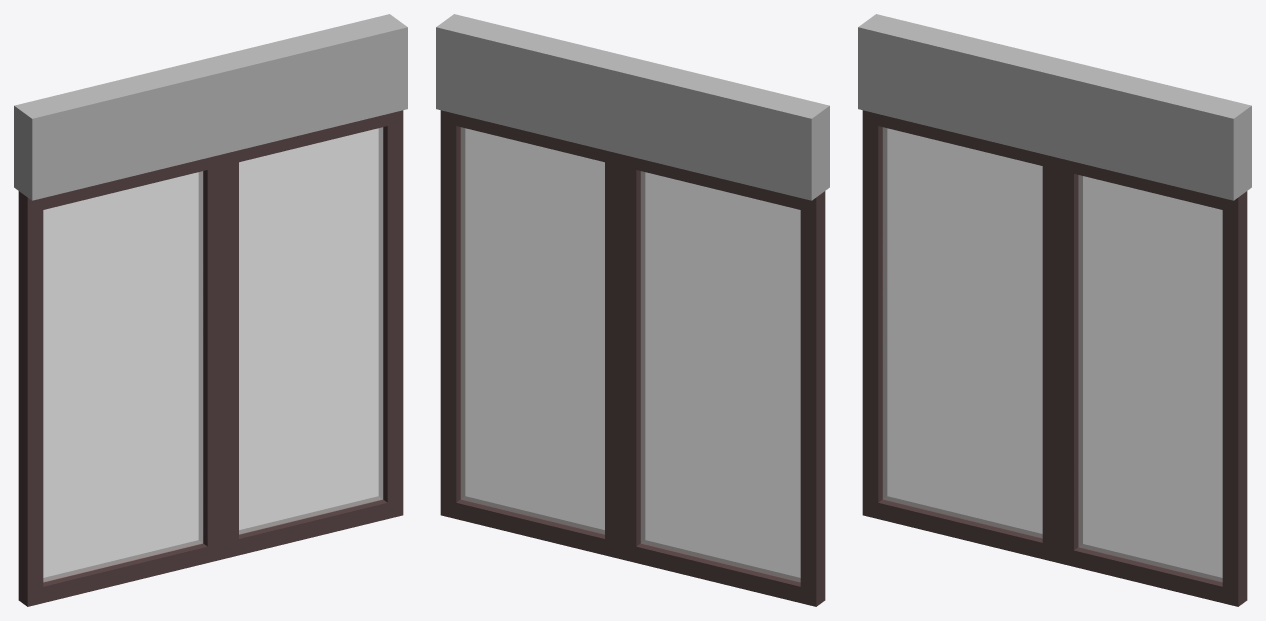
File: Window_Partition.fbx
The picture shows the model from 3 angles, left to right: view 1: azimuth 30°, elevation 25°; view 2: azimuth 150°, elevation 25°; view 3: azimuth 330°, elevation 25°; orthographic projection.
Visible parts, largest first — view 1: Window_Partition; view 2: Window_Partition; view 3: Window_Partition.
Part boxes in pixels (bbox=[...]): Window_Partition: bbox=[14, 14, 407, 606]; Window_Partition: bbox=[436, 14, 829, 606]; Window_Partition: bbox=[858, 14, 1251, 606].
Bounding box in the file's own units: 2.4 × 3 × 0.2.
